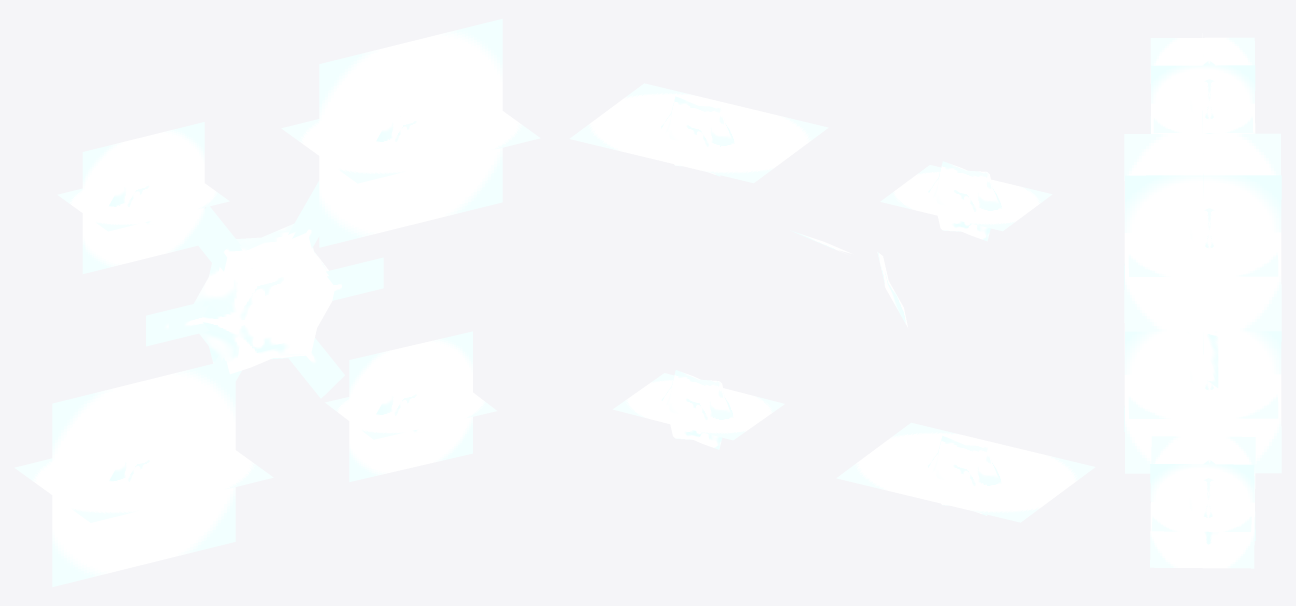
Rendered from sfx_weapon_spirit_A0015.glb.
3 renders of one model, left to right at view 1: azimuth 30°, elevation 25°; view 2: azimuth 150°, elevation 25°; view 3: azimuth 270°, elevation 25°, orthographic.
Visible parts, largest first — view 1: sfx_weapon_spirit_A0015, sfx_weapon_spirit_A0015_obj13, sfx_weapon_spirit_A0015_obj8, sfx_weapon_spirit_A0015_obj11; view 2: sfx_weapon_spirit_A0015, sfx_weapon_spirit_A0015_obj13, sfx_weapon_spirit_A0015_obj8, sfx_weapon_spirit_A0015_obj11; view 3: sfx_weapon_spirit_A0015, sfx_weapon_spirit_A0015_obj13, sfx_weapon_spirit_A0015_obj8, sfx_weapon_spirit_A0015_obj11.
Boxes of the visible parts, box(x1,y1,x2,y2) form: sfx_weapon_spirit_A0015: box(108, 19, 540, 483); sfx_weapon_spirit_A0015_obj13: box(14, 360, 273, 586); sfx_weapon_spirit_A0015_obj8: box(325, 331, 496, 481); sfx_weapon_spirit_A0015_obj11: box(57, 122, 229, 273); sfx_weapon_spirit_A0015: box(569, 83, 1002, 515); sfx_weapon_spirit_A0015_obj13: box(836, 422, 1095, 522); sfx_weapon_spirit_A0015_obj8: box(613, 373, 784, 440); sfx_weapon_spirit_A0015_obj11: box(880, 165, 1052, 231); sfx_weapon_spirit_A0015: box(1124, 60, 1281, 544); sfx_weapon_spirit_A0015_obj13: box(1124, 290, 1281, 473); sfx_weapon_spirit_A0015_obj8: box(1150, 436, 1255, 568); sfx_weapon_spirit_A0015_obj11: box(1150, 33, 1255, 133).
Size of the model in its own units: 0.7129 by 0.6909 by 0.2183.
4 materials, 4 textured.
